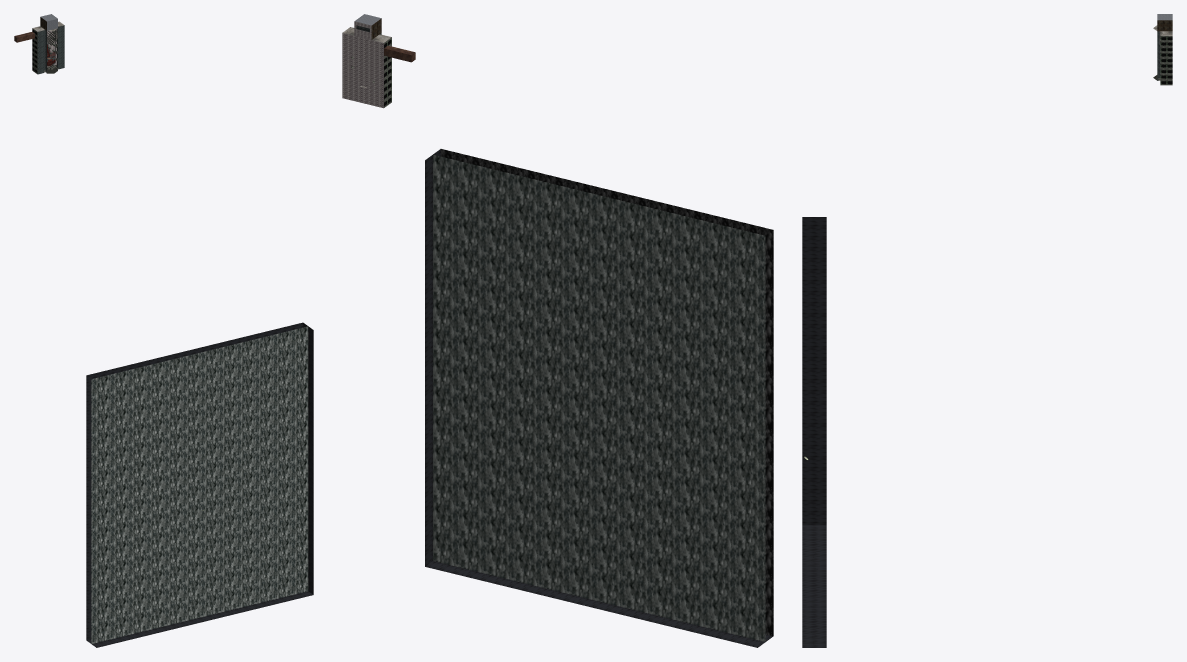
The model's file is EOL_Arena.obj.
3 renders of one model, left to right at view 1: azimuth 30°, elevation 25°; view 2: azimuth 150°, elevation 25°; view 3: azimuth 270°, elevation 25°, orthographic. The views are drawn at different scales.
Visible parts, largest first — view 1: GenFluid_cloud1, eol_Black, eol_EMarble1; view 2: GenFluid_cloud1, Skybox_Effects_NCld, eol_Black, eol_inlaid7; view 3: eol_Black, eol_earch.
Boxes of the visible parts, <box> form: GenFluid_cloud1: <box>91,326,308,643</box>; eol_Black: <box>86,322,313,647</box>; eol_EMarble1: <box>37,25,64,74</box>; GenFluid_cloud1: <box>433,154,765,641</box>; Skybox_Effects_NCld: <box>441,149,773,635</box>; eol_Black: <box>425,149,773,647</box>; eol_inlaid7: <box>342,21,383,108</box>; eol_Black: <box>802,217,826,647</box>; eol_earch: <box>1160,36,1172,85</box>.
Size of the model in its own units: 117 by 252 by 149.
